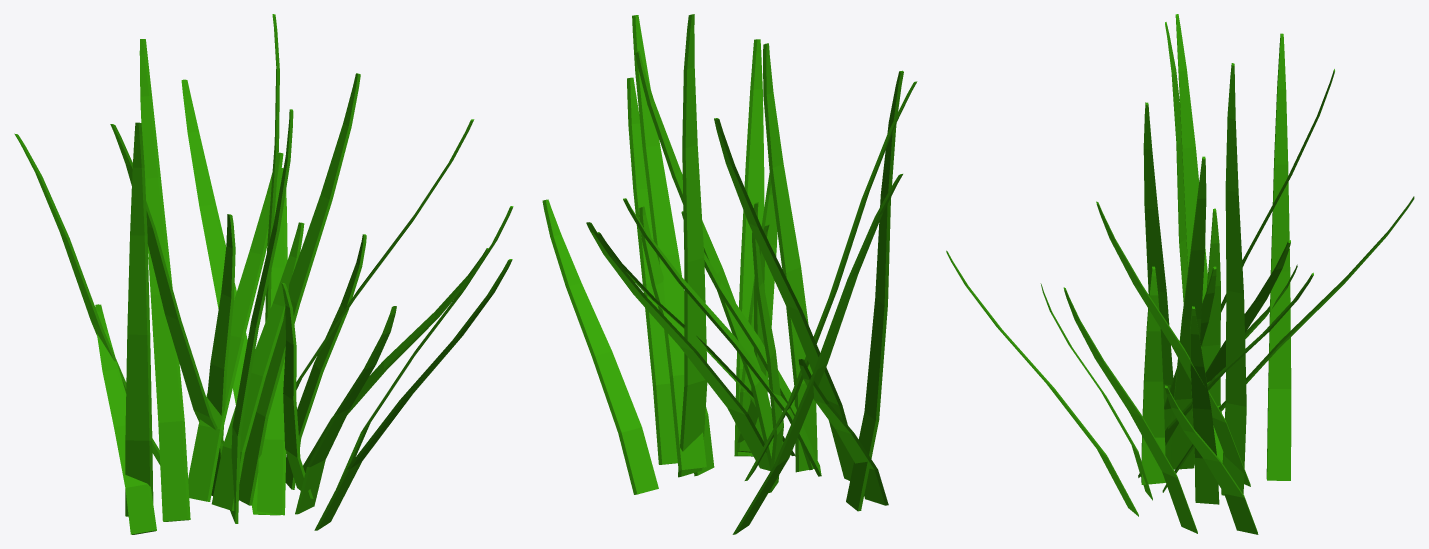
Rendered from grassBlade.fbx.
The picture shows the model from 3 angles, left to right: view 1: azimuth 30°, elevation 25°; view 2: azimuth 150°, elevation 25°; view 3: azimuth 270°, elevation 25°; orthographic projection. The views are drawn at different scales.
Parts seen in each view (by area): view 1: Grass_Blades; view 2: Grass_Blades; view 3: Grass_Blades.
Part boxes in pixels (<box>): Grass_Blades: <box>14,14,513,534</box>; Grass_Blades: <box>542,14,917,534</box>; Grass_Blades: <box>946,14,1414,534</box>.
Size of the model in its own units: 26.5 by 28.97 by 27.28.
